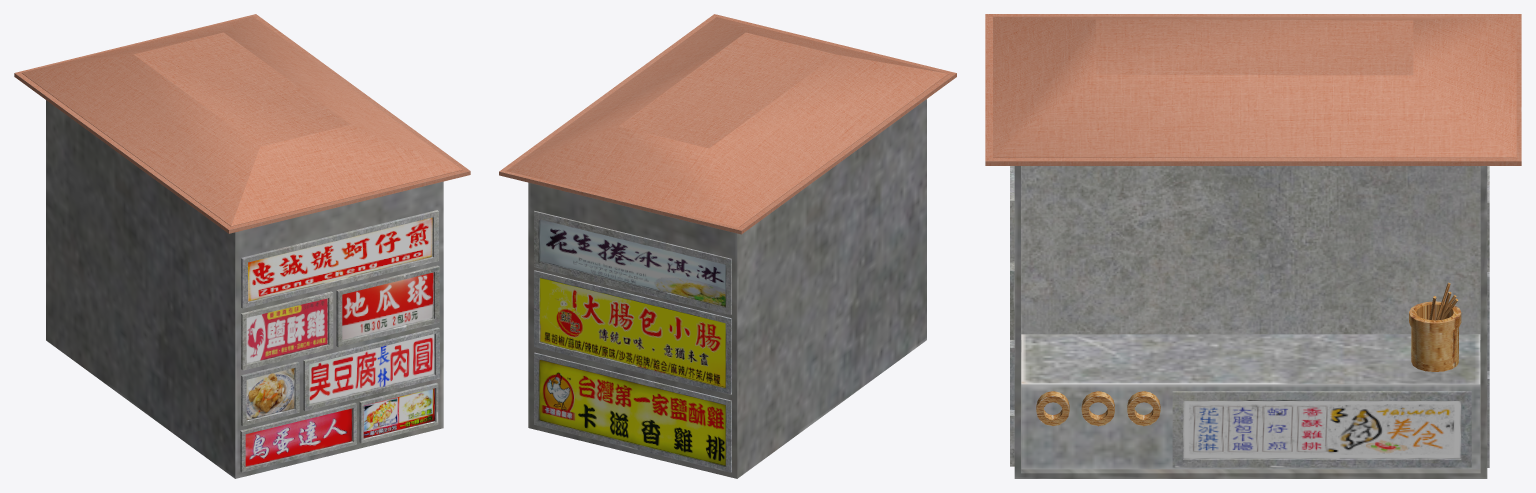
The picture shows the model from 3 angles, left to right: view 1: azimuth 30°, elevation 25°; view 2: azimuth 150°, elevation 25°; view 3: azimuth 270°, elevation 25°; orthographic projection. The views are drawn at different scales.
Visible parts, largest first — view 1: polySurface38; view 2: polySurface38; view 3: polySurface38.
Part boxes in pixels (bbox=[...]): polySurface38: bbox=[14, 14, 470, 478]; polySurface38: bbox=[499, 14, 956, 478]; polySurface38: bbox=[985, 14, 1521, 478].
Bounding box in the file's own units: 21.24 × 24.72 × 32.68.
1 material, 1 textured.
